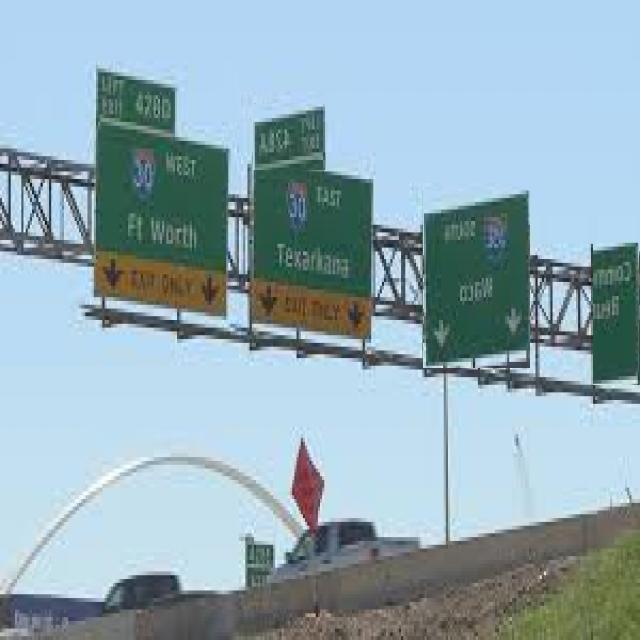street-signs: (93, 121, 230, 319), (250, 154, 373, 345), (423, 189, 530, 368), (594, 240, 639, 385), (96, 65, 178, 136), (253, 104, 326, 170)
